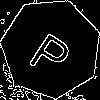P: (26, 23, 80, 80)
